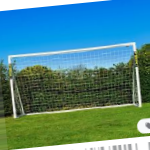goals: (7, 40, 143, 119)
